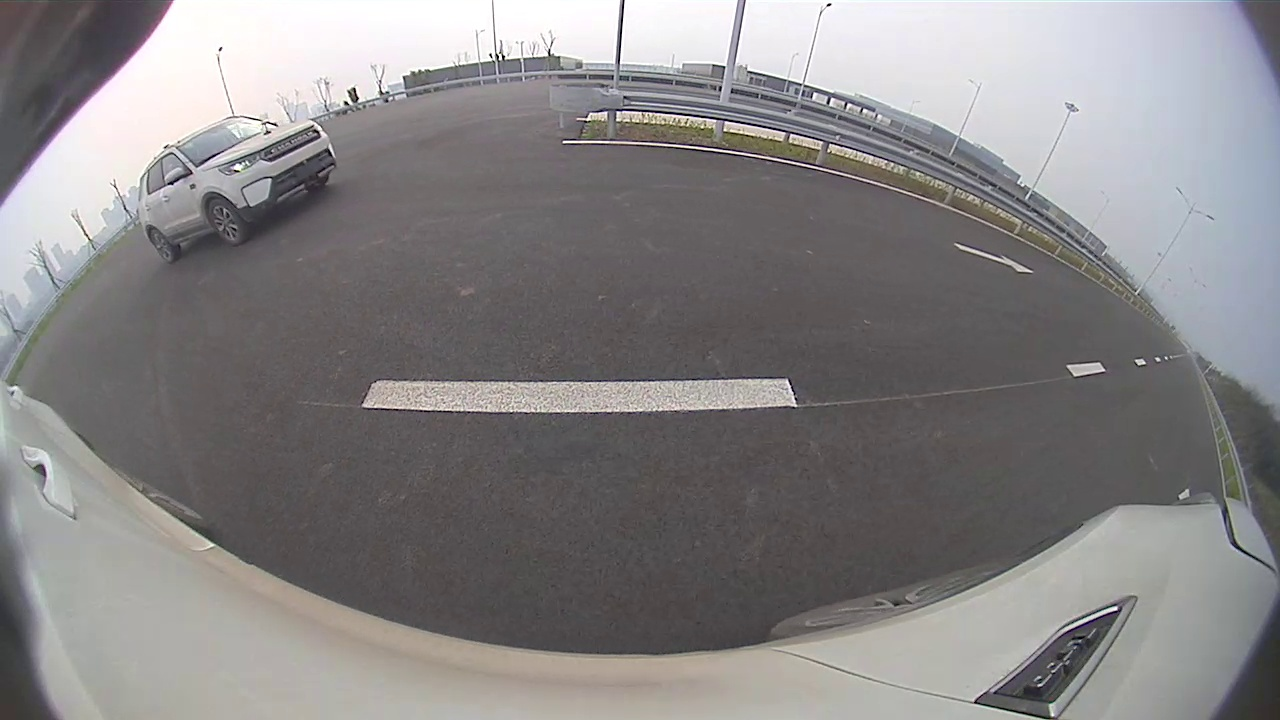car: (139, 115, 336, 263)
front: (204, 197, 246, 247)
rear: (147, 227, 177, 266)
